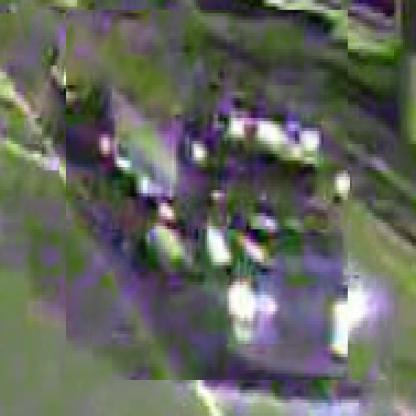container: (67, 11, 351, 384)
